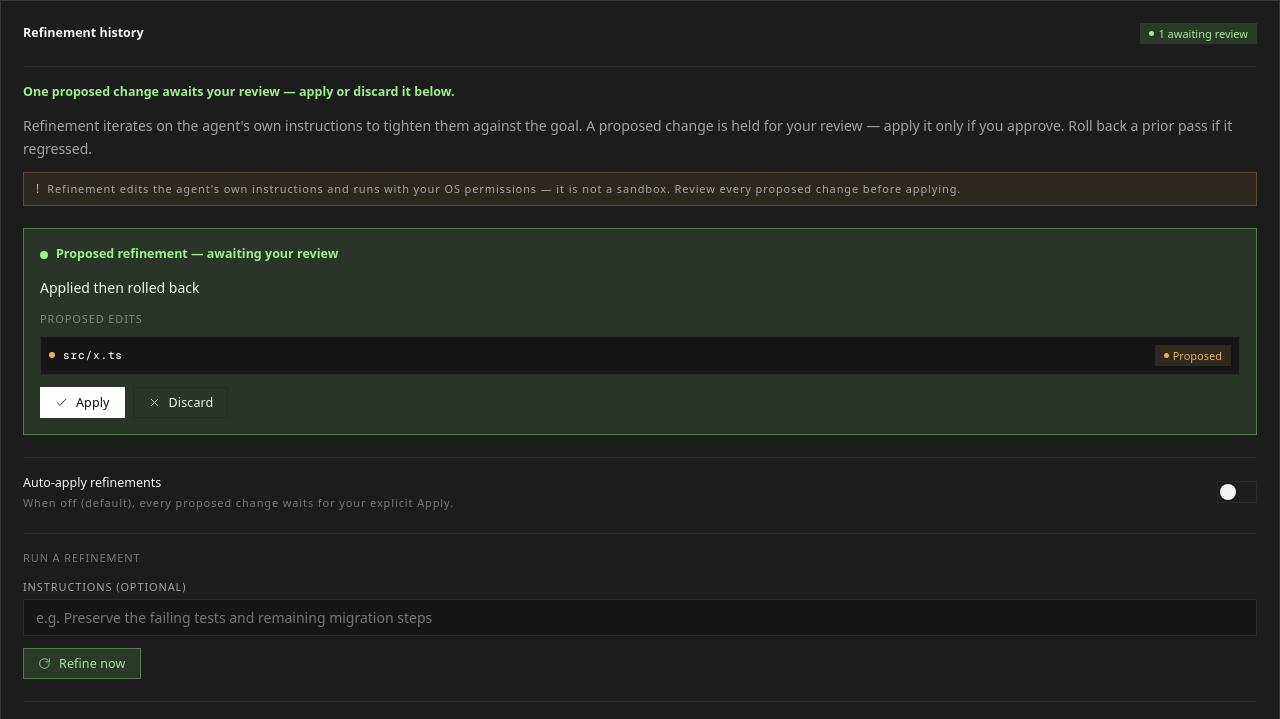
RefinementHistory › rolls back an applied refinement via prompt and marks it rolled back
The width and height of the screenshot is (1280, 719).
Click the button "Apply" at (82,402), box [40,387,125,418]
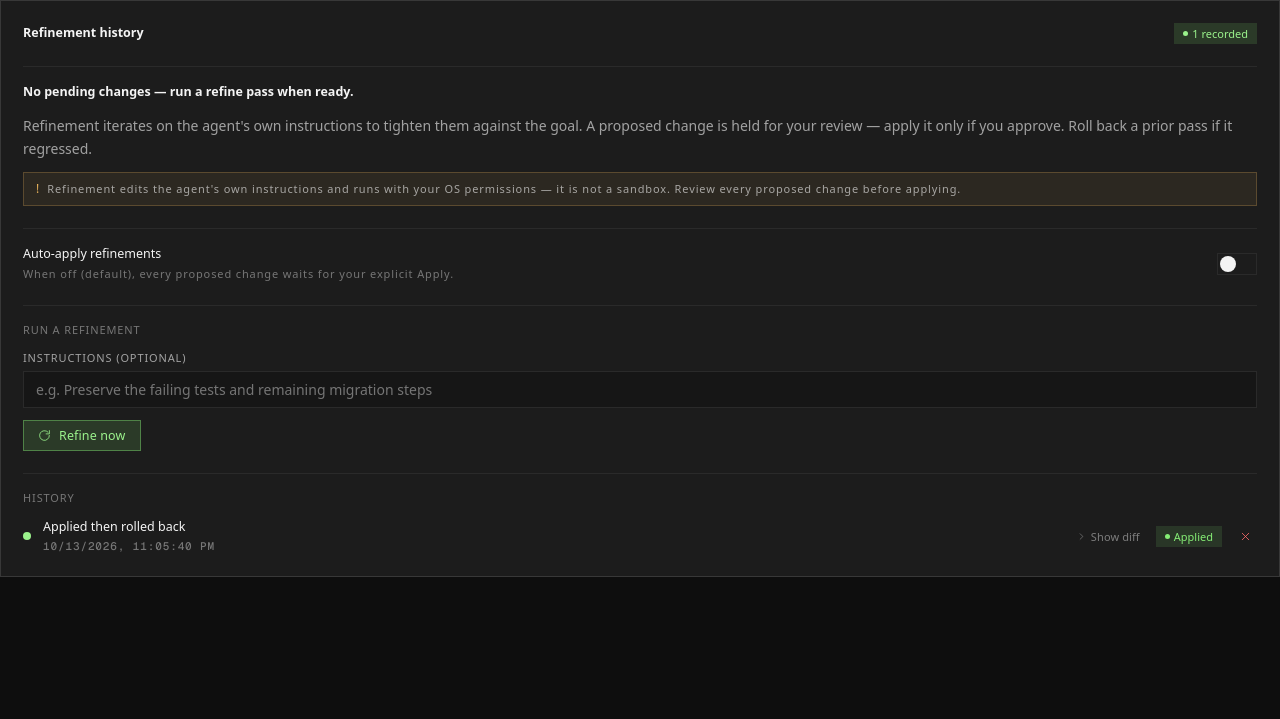
expect the text "Applied" is shown: met, box [1156,526,1222,547]
Click the button named "rollback this refinement" at (1246,536), box [1234,525,1257,548]
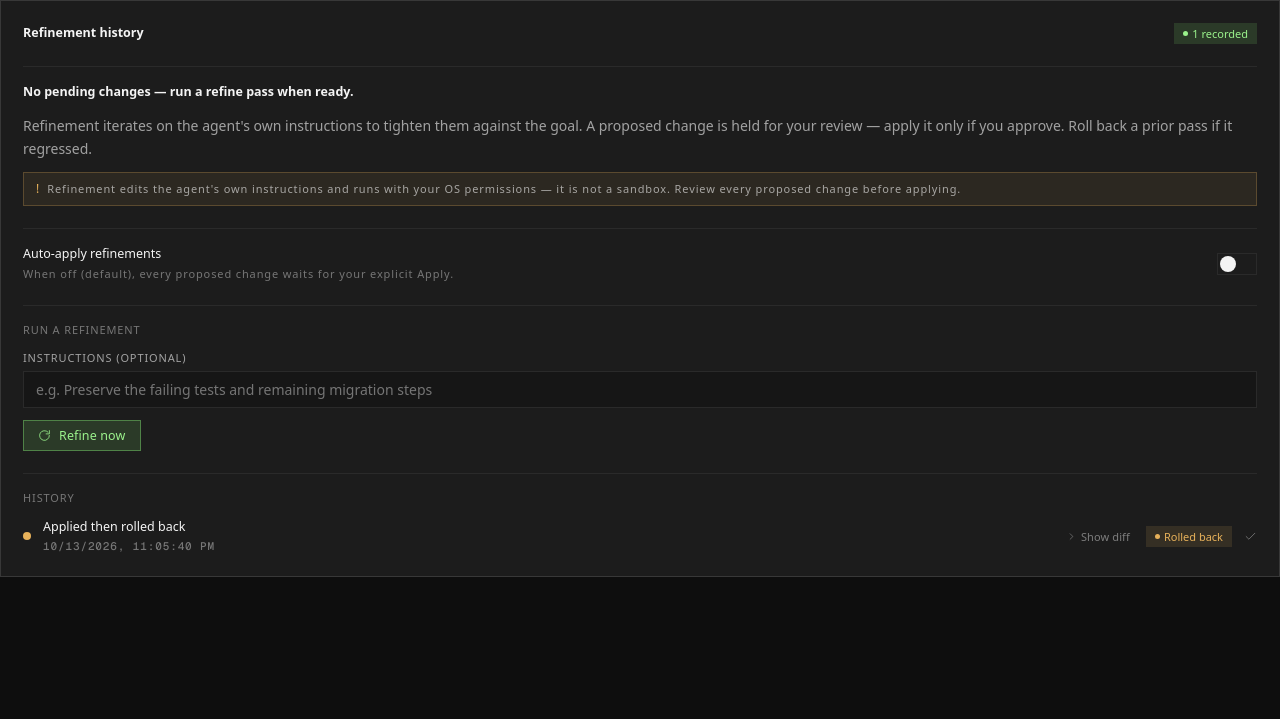
expect the text "Rolled back" is shown: met, box [1146,526,1232,547]
